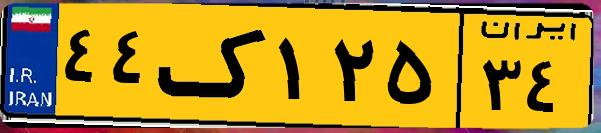1: (270, 28, 330, 110)
2: (330, 28, 385, 110)
3: (475, 38, 525, 113)
4: (57, 26, 110, 100), (525, 38, 570, 115), (110, 28, 158, 98)
5: (385, 28, 445, 110)
ک: (158, 12, 270, 120)
